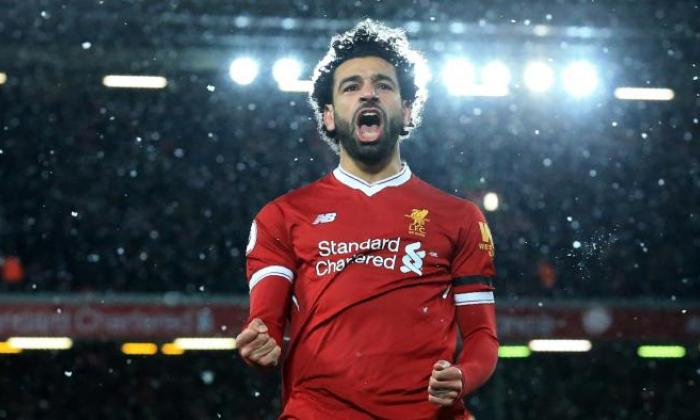NoMask: (336, 70, 401, 163)
